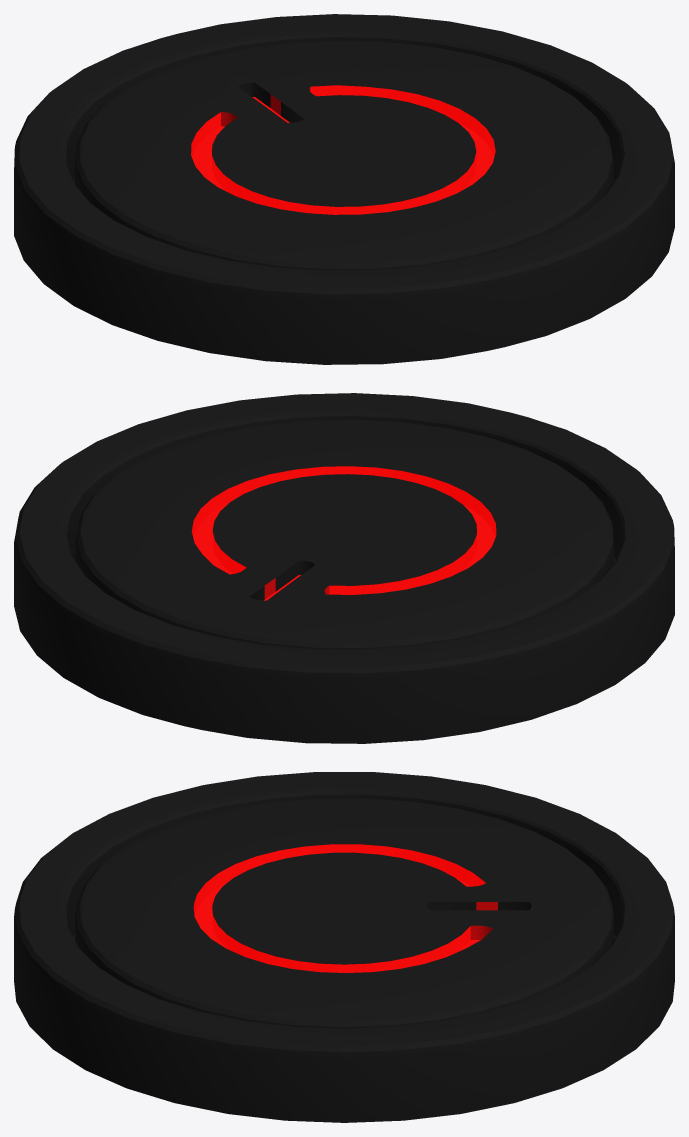
File: switch_button.FBX
3 views of the same model, one above another, from view 1: azimuth 30°, elevation 25°; view 2: azimuth 150°, elevation 25°; view 3: azimuth 270°, elevation 25° (orthographic).
Visible parts, largest first — view 1: Cylinder001; view 2: Cylinder001; view 3: Cylinder001.
Boxes of the visible parts, left/top/right/bottom form: Cylinder001: left=14, top=14, right=674, bottom=364; Cylinder001: left=14, top=393, right=674, bottom=743; Cylinder001: left=14, top=772, right=674, bottom=1122.
Size of the model in its own units: 0.8439 by 0.1046 by 0.8435.
